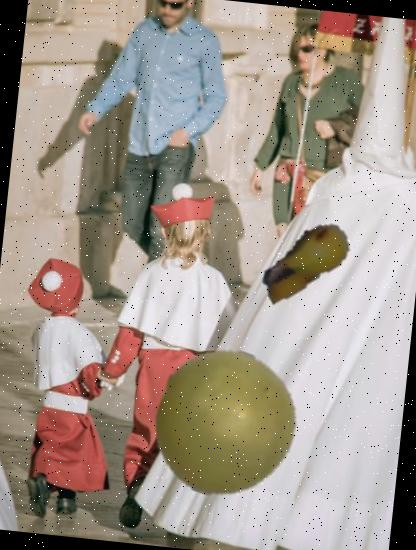Banana: (248, 205, 360, 317)
Grape: (144, 342, 307, 505)
